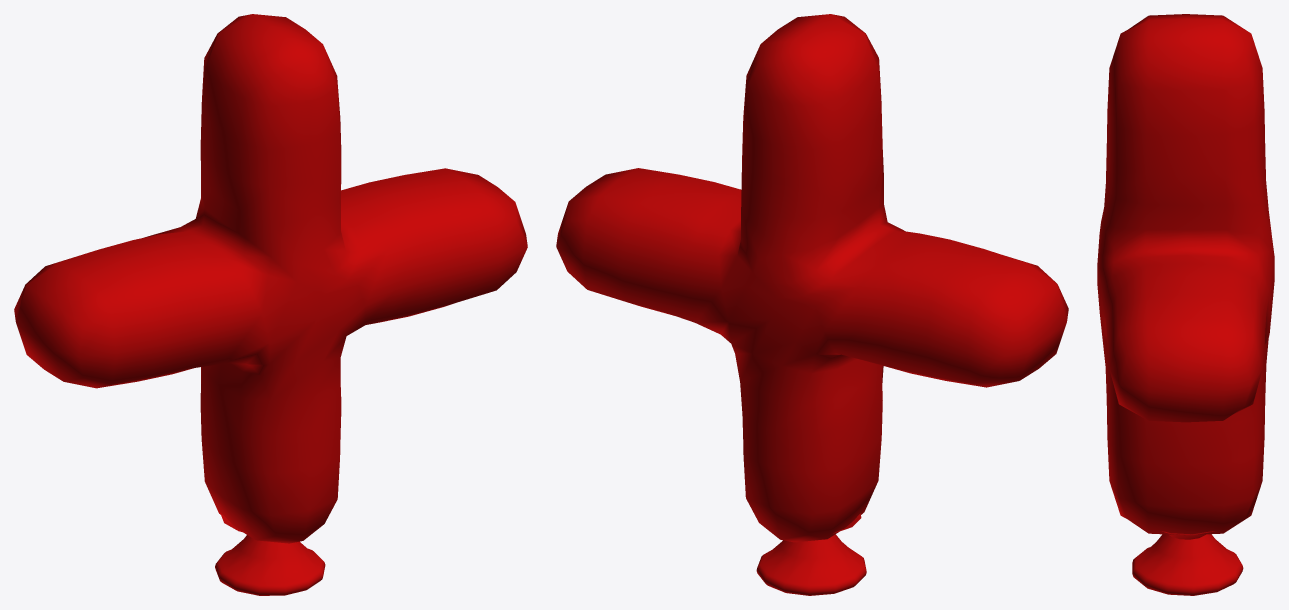
3 renders of one model, left to right at view 1: azimuth 30°, elevation 25°; view 2: azimuth 150°, elevation 25°; view 3: azimuth 270°, elevation 25°, orthographic.
Parts seen in each view (by area): view 1: Text028; view 2: Text028; view 3: Text028.
Boxes of the visible parts, <box> form: Text028: <box>14,14,527,595</box>; Text028: <box>556,14,1068,595</box>; Text028: <box>1097,14,1274,595</box>.
Bounding box in the file's own units: 54.91 × 60.59 × 17.53.
